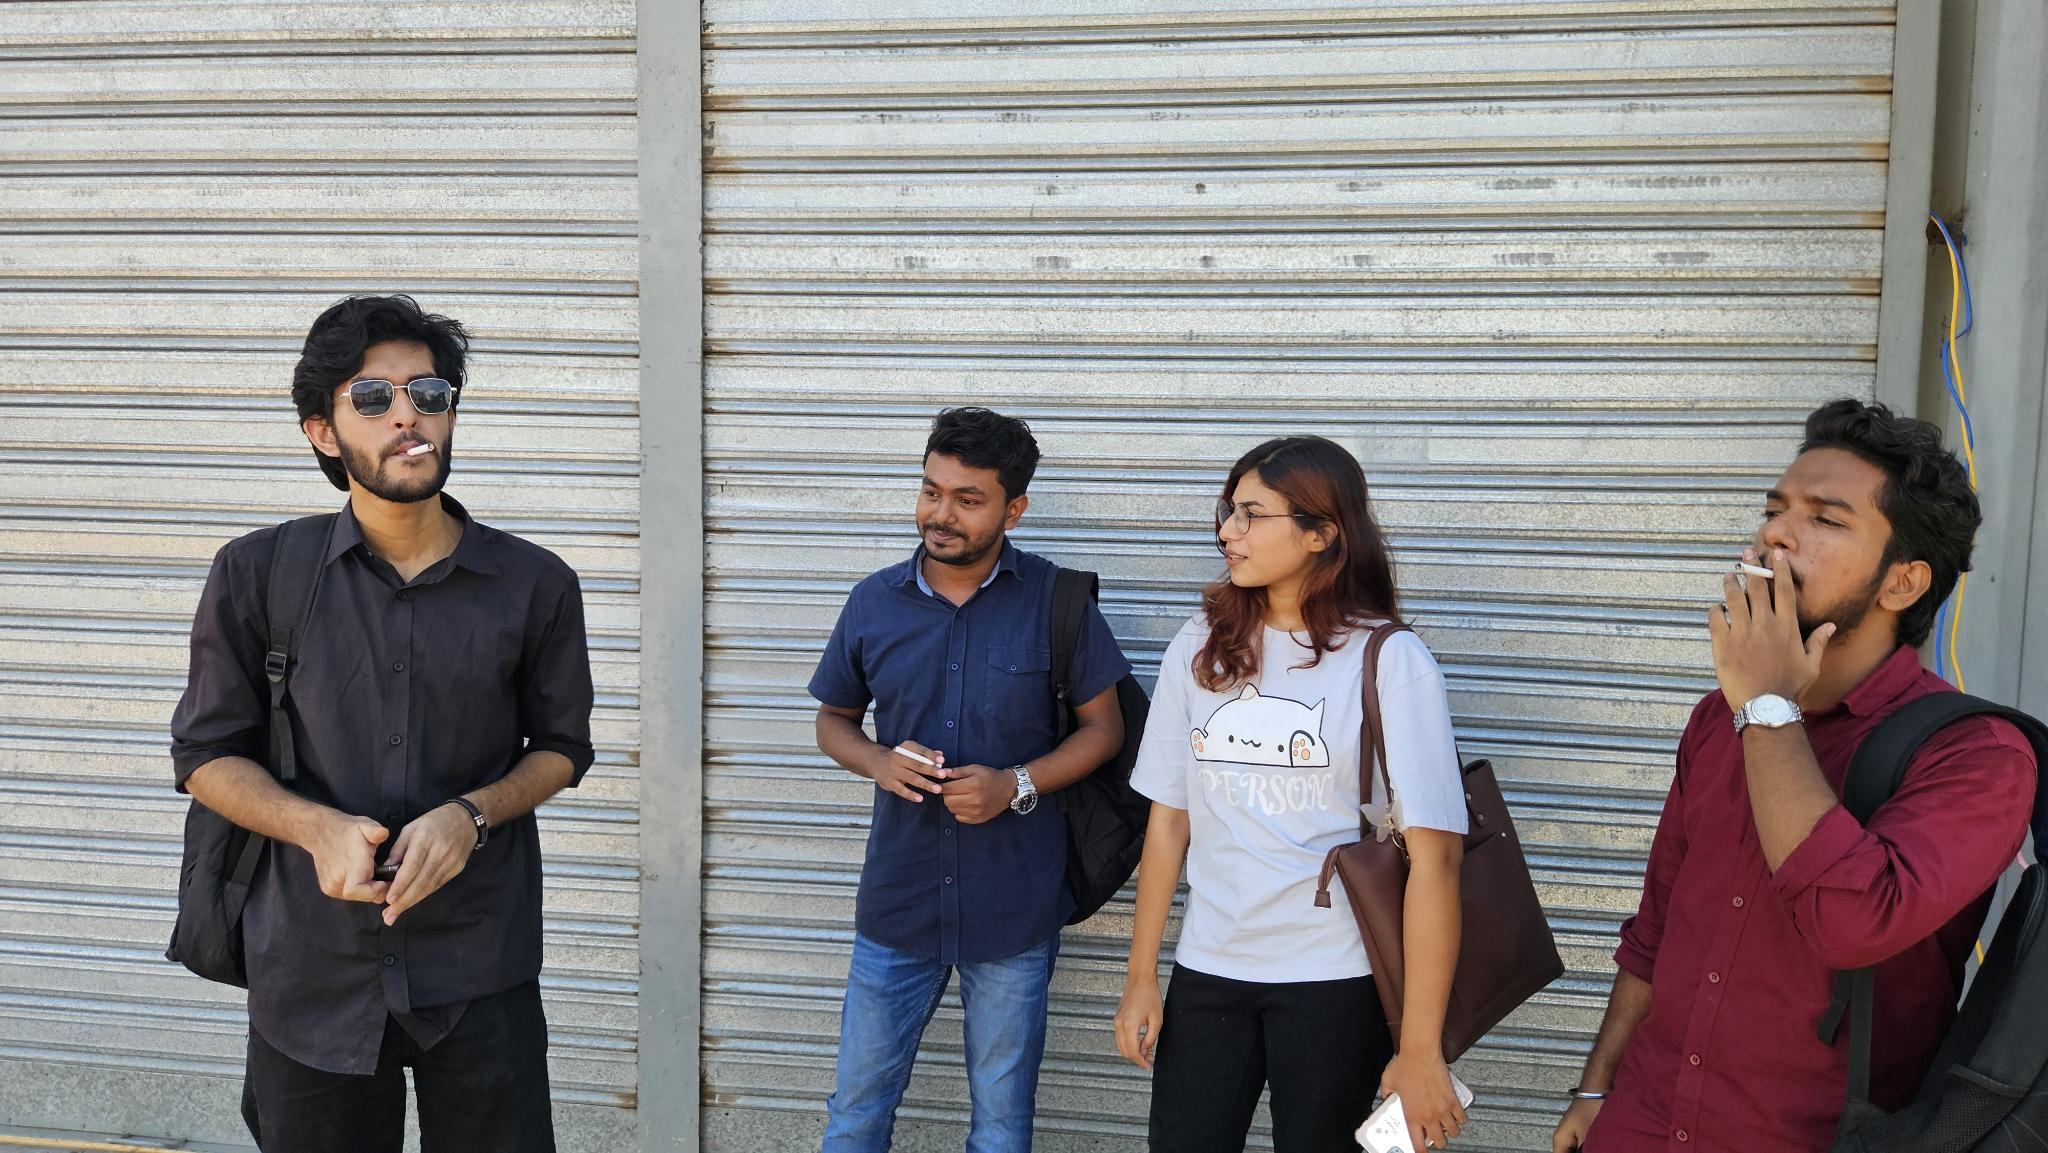cigarette: (892, 744, 944, 771), (1732, 560, 1777, 581), (404, 442, 436, 458)
nonSmoker: (1114, 434, 1567, 1153)
smoker: (1557, 399, 2048, 1153), (165, 295, 592, 1153), (807, 406, 1151, 1153)
